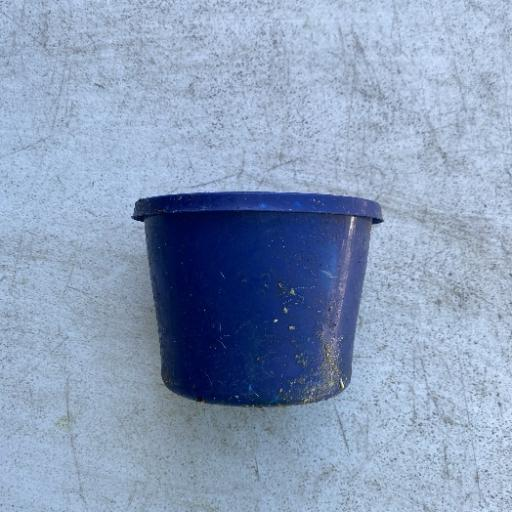Plastic: (129, 188, 386, 410)
